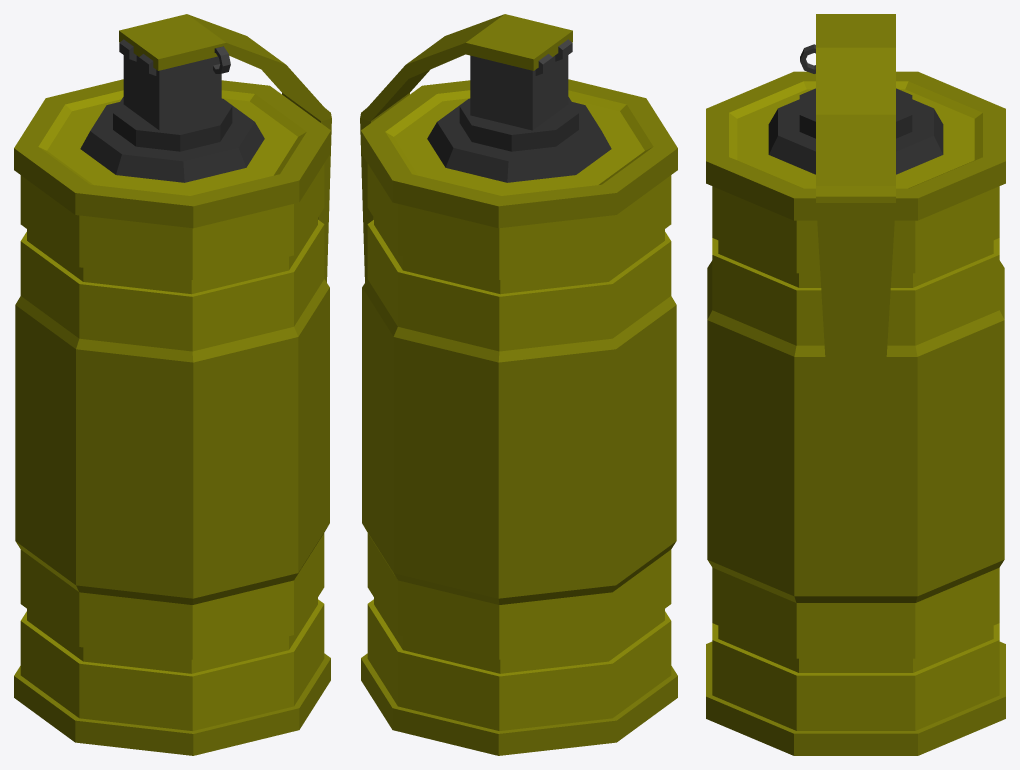
File: Grenade_01_2.fbx
3 views of the same model, side by side, from view 1: azimuth 30°, elevation 25°; view 2: azimuth 150°, elevation 25°; view 3: azimuth 270°, elevation 25° (orthographic).
Visible parts, largest first — view 1: Grenade_01_2; view 2: Grenade_01_2; view 3: Grenade_01_2.
Boxes of the visible parts, left/top/right/bottom form: Grenade_01_2: left=14, top=14, right=331, bottom=755; Grenade_01_2: left=360, top=14, right=677, bottom=755; Grenade_01_2: left=706, top=14, right=1005, bottom=755.
Size of the model in its own units: 0.0636 by 0.148 by 0.0608.
